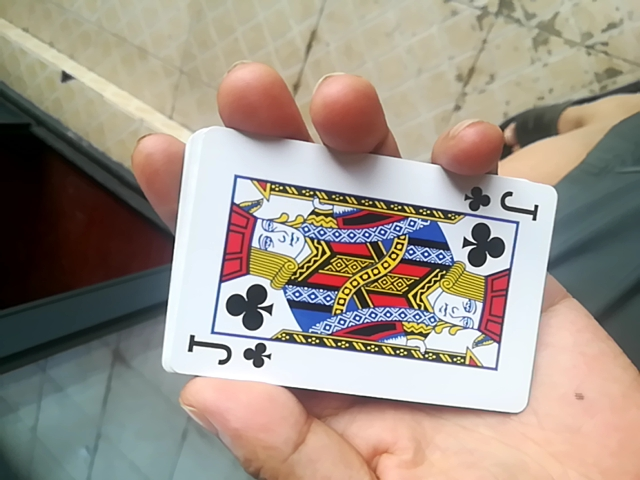mh j: (154, 133, 560, 414)
